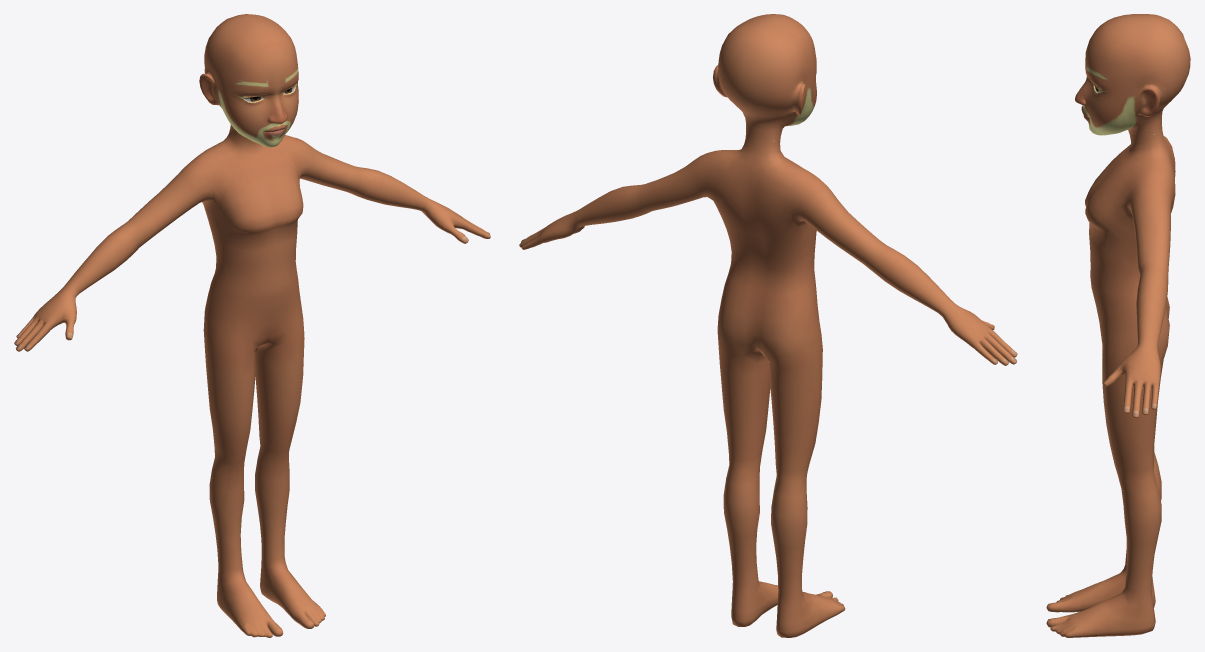
The model's file is frame_0039.glb.
The picture shows the model from 3 angles, left to right: view 1: azimuth 30°, elevation 25°; view 2: azimuth 150°, elevation 25°; view 3: azimuth 270°, elevation 25°; orthographic projection. The views are drawn at different scales.
Visible parts, largest first — view 1: frame_0039_head_geo; view 2: frame_0039_head_geo; view 3: frame_0039_head_geo.
Boxes of the visible parts, <box> form: frame_0039_head_geo: <box>14,14,490,637</box>; frame_0039_head_geo: <box>519,14,1017,637</box>; frame_0039_head_geo: <box>1046,14,1190,637</box>.
Bounding box in the file's own units: 1.28 × 1.5 × 0.3253.
3 materials, 3 textured.
